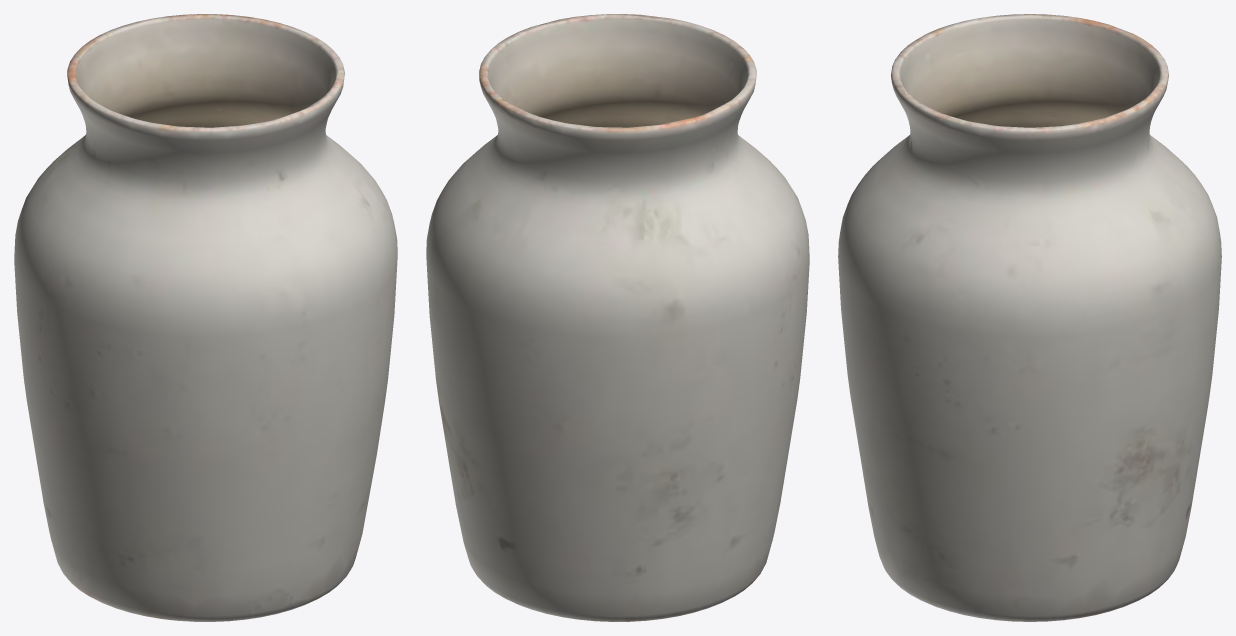
The model's file is ceramic_vase_02.glb.
3 views of the same model, side by side, from view 1: azimuth 30°, elevation 25°; view 2: azimuth 150°, elevation 25°; view 3: azimuth 270°, elevation 25° (orthographic).
Visible parts, largest first — view 1: ceramic_vase_02; view 2: ceramic_vase_02; view 3: ceramic_vase_02.
Part boxes in pixels (x1,y1,x2,y2): ceramic_vase_02: (14, 14, 397, 621); ceramic_vase_02: (426, 14, 809, 621); ceramic_vase_02: (838, 14, 1221, 621).
Bounding box in the file's own units: 0.2184 × 0.3092 × 0.2184.
1 material, 1 textured.
